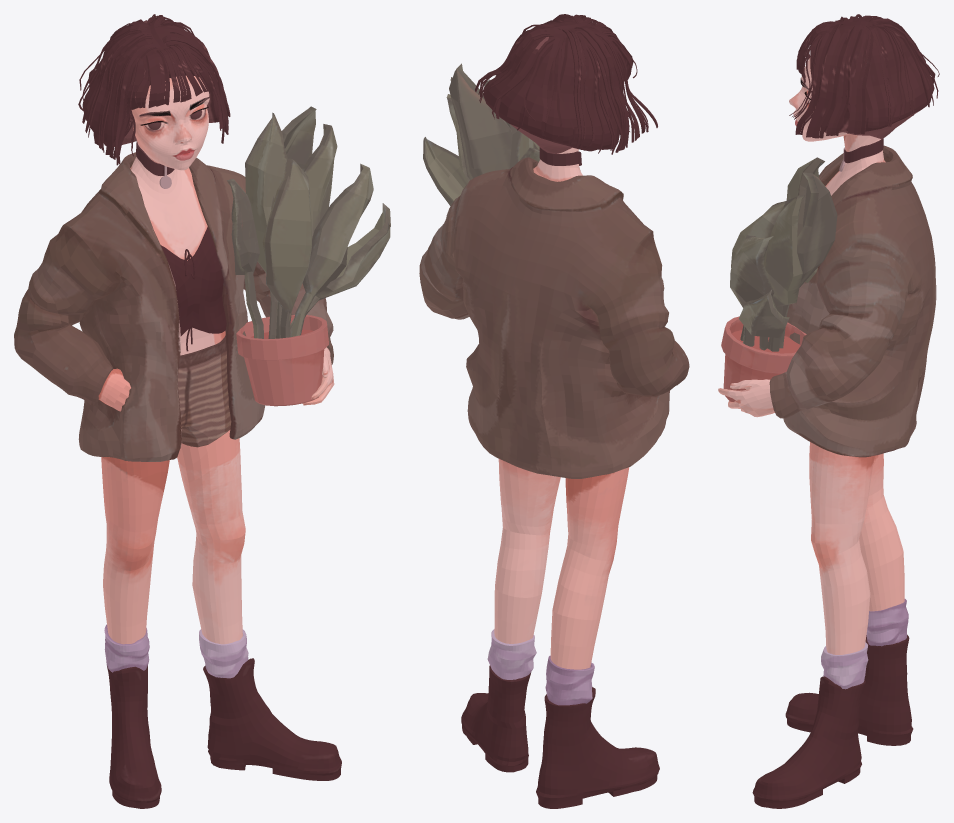
Rendered from asset.gltf.
The picture shows the model from 3 angles, left to right: view 1: azimuth 30°, elevation 25°; view 2: azimuth 150°, elevation 25°; view 3: azimuth 270°, elevation 25°; orthographic projection. The views are drawn at different scales.
Parts seen in each view (by area): view 1: polySurface80, polySurface74, polySurface87, polySurface67, polySurface86, polySurface66, polySurface75, polySurface68, polySurface85, polySurface76, polySurface69, hairStrands_v2:polySurface28 (+7 smaller); view 2: polySurface80, polySurface74, hairStrands_v2:polySurface28, polySurface86, polySurface87, polySurface102, polySurface77, polySurface62, polySurface78, polySurface69, polySurface60, polySurface37 (+1 smaller); view 3: polySurface80, polySurface74, polySurface87, polySurface86, hairStrands_v2:polySurface28, polySurface67, polySurface72, polySurface102, polySurface68, polySurface62, polySurface77, polySurface78 (+15 smaller).
Boxes of the visible parts, box(x1,y1,x2,y2) form: polySurface80: box(14, 152, 333, 461); polySurface74: box(101, 143, 245, 644); polySurface87: box(203, 658, 341, 780); polySurface67: box(236, 315, 328, 406); polySurface86: box(107, 665, 161, 808); polySurface66: box(262, 158, 311, 338); polySurface75: box(178, 331, 231, 447); polySurface68: box(290, 163, 373, 336); polySurface85: box(131, 75, 209, 170); polySurface76: box(161, 226, 226, 336); polySurface69: box(245, 112, 287, 338); hairStrands_v2:polySurface28: box(82, 19, 219, 146); polySurface80: box(419, 157, 689, 478); polySurface74: box(494, 147, 629, 669); hairStrands_v2:polySurface28: box(483, 17, 624, 153); polySurface86: box(536, 687, 659, 808); polySurface87: box(461, 665, 531, 772); polySurface102: box(449, 63, 512, 179); polySurface77: box(545, 655, 594, 705); polySurface62: box(423, 137, 468, 205); polySurface78: box(487, 629, 536, 679); polySurface69: box(484, 79, 534, 168); polySurface60: box(539, 147, 581, 165); polySurface37: box(581, 27, 628, 150); polySurface80: box(769, 145, 936, 457); polySurface74: box(809, 134, 904, 654); polySurface87: box(752, 676, 865, 808); polySurface86: box(785, 634, 913, 745); hairStrands_v2:polySurface28: box(810, 17, 934, 138); polySurface67: box(721, 316, 806, 401); polySurface72: box(765, 194, 805, 351); polySurface102: box(767, 172, 837, 349); polySurface68: box(730, 235, 774, 346); polySurface62: box(738, 289, 789, 350); polySurface77: box(866, 599, 908, 646); polySurface78: box(821, 642, 868, 689).
Size of the model in its own units: 82.65 by 191 by 52.97.
Materials: 1 (1 with a texture image).
